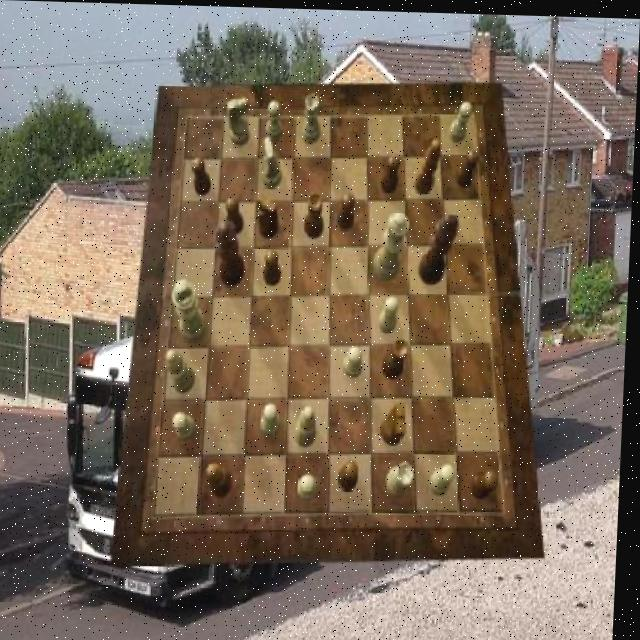bishop: (415, 136, 442, 192), (209, 461, 236, 496)
black-bishop: (419, 211, 459, 285)
black-king: (384, 400, 410, 444), (256, 192, 281, 237)
black-knight: (455, 146, 480, 185), (474, 467, 502, 497), (192, 155, 213, 194), (382, 154, 402, 192), (227, 195, 246, 233), (265, 248, 284, 284), (338, 191, 356, 229), (342, 459, 363, 490)
black-pawn: (215, 219, 248, 286)
black-queen: (386, 337, 412, 377), (305, 190, 326, 237)
black-rook: (167, 349, 199, 393), (297, 404, 321, 446)
white-bishop: (173, 277, 211, 343)
white-king: (228, 96, 252, 146), (263, 134, 285, 187)
white-knight: (448, 98, 472, 140), (432, 461, 458, 494), (380, 295, 401, 332), (266, 100, 284, 142), (265, 402, 285, 436), (176, 412, 200, 440), (347, 345, 367, 378), (301, 472, 322, 498)
white-pawn: (374, 209, 412, 279)
white-queen: (389, 459, 418, 496), (302, 92, 323, 143)
